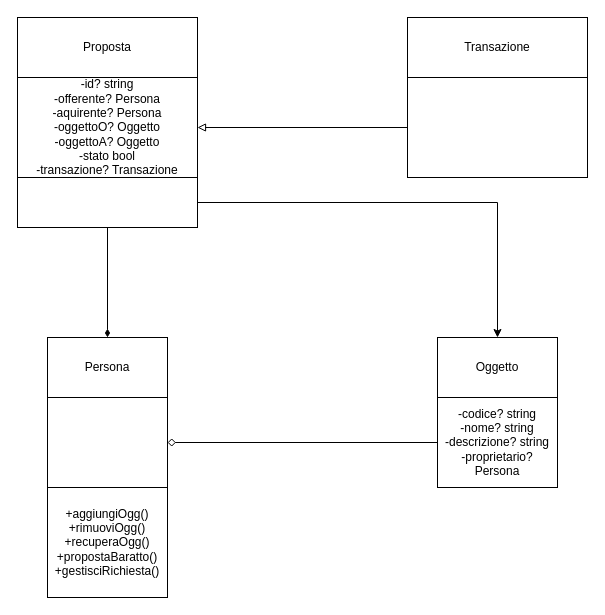
Image size: 605x615. Some labels were removed from this diagram. Here are the shapes that lost their labels. From the top down, the box of each, then its label:
(406, 76, 588, 178): -codice? string -data: Date
(16, 176, 198, 228): +registraTransazione()
(46, 396, 168, 488): -codice? string -nominativo? string -list<Oggetto>? -list<Proposta>?
